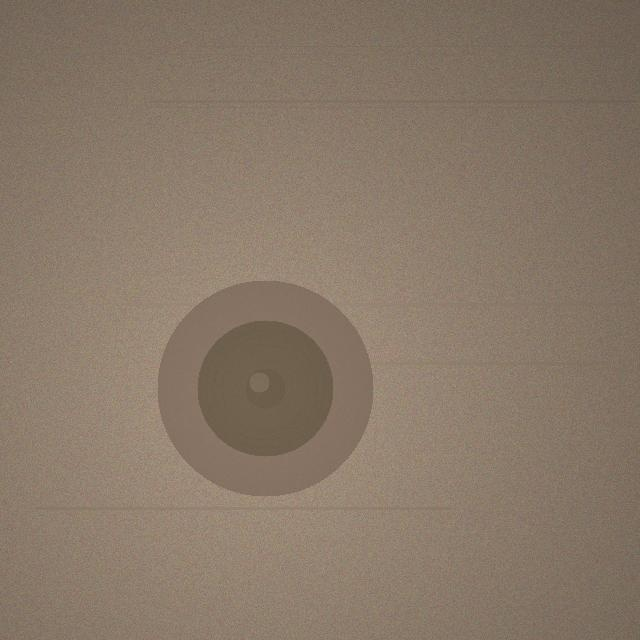good: (157, 280, 373, 496)
